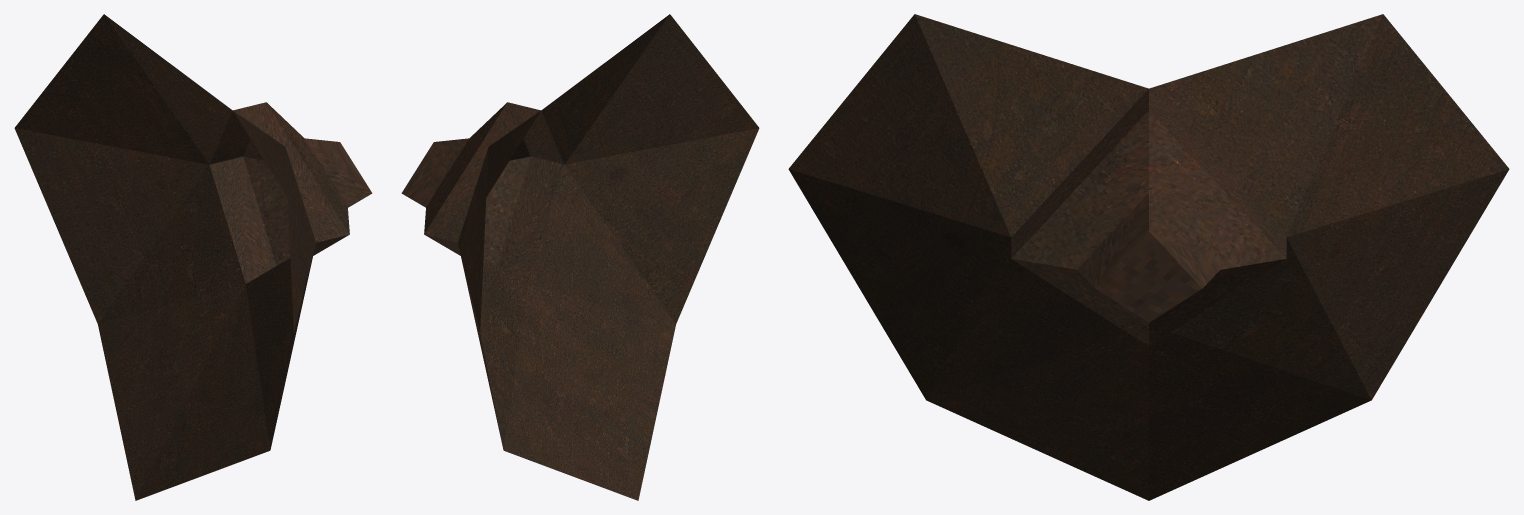
The model's file is firenozzle.glb.
3 views of the same model, side by side, from view 1: azimuth 30°, elevation 25°; view 2: azimuth 150°, elevation 25°; view 3: azimuth 270°, elevation 25° (orthographic). The views are drawn at different scales.
Visible parts, largest first — view 1: FireTrapNozzle; view 2: FireTrapNozzle; view 3: FireTrapNozzle.
Boxes of the visible parts, x1,y1,x2,y2 form: FireTrapNozzle: (14, 14, 372, 500); FireTrapNozzle: (401, 14, 759, 500); FireTrapNozzle: (788, 14, 1509, 500).
Size of the model in its own units: 0.4467 by 0.8014 by 0.9991.
1 material, 1 textured.
